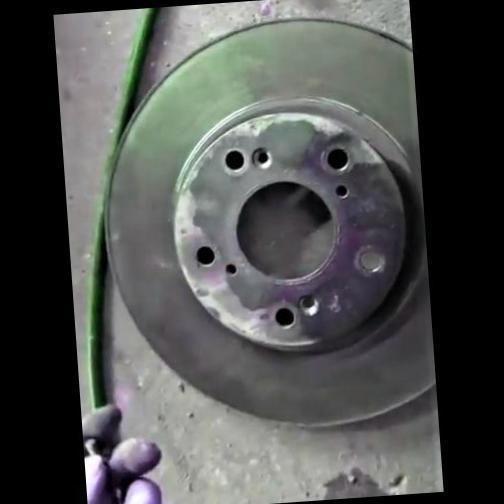hole: (324, 146, 349, 170), (357, 247, 382, 271), (296, 292, 320, 316), (272, 304, 295, 328), (249, 146, 272, 170), (194, 244, 216, 266), (222, 148, 244, 170), (222, 261, 238, 275), (333, 182, 348, 196)
